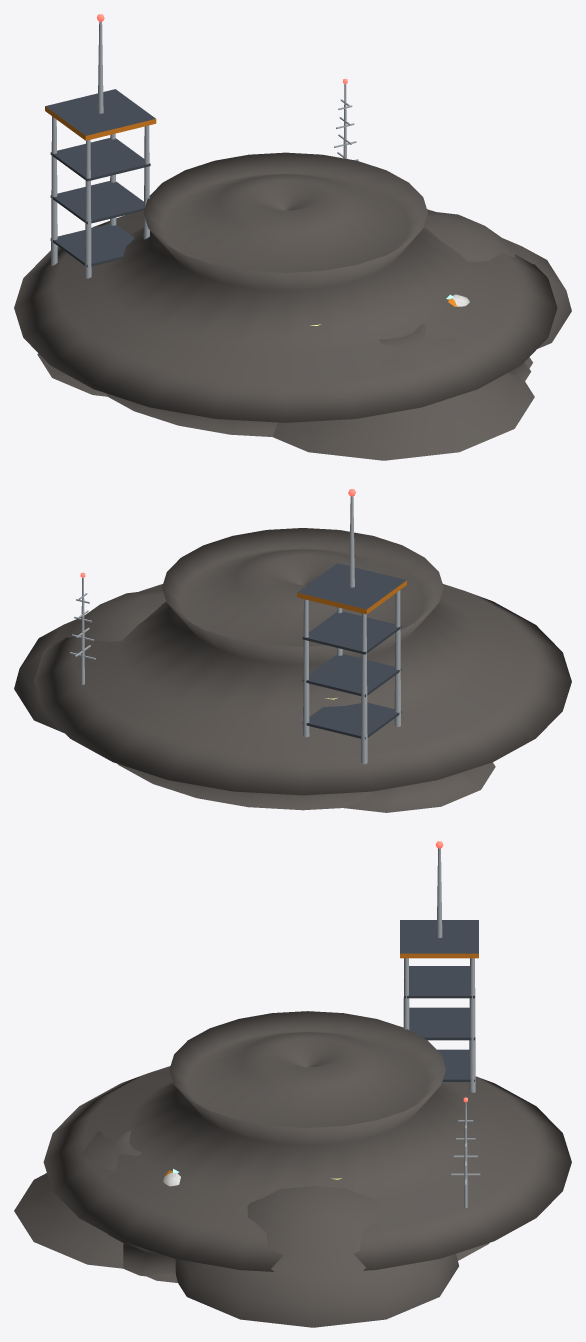
The model's file is asteroid_mining_village.glb.
The picture shows the model from 3 angles, top to bottom: view 1: azimuth 30°, elevation 25°; view 2: azimuth 150°, elevation 25°; view 3: azimuth 270°, elevation 25°; orthographic projection. The views are drawn at different scales.
Parts seen in each view (by area): view 1: asteroid_mining_village_LOD0; view 2: asteroid_mining_village_LOD0; view 3: asteroid_mining_village_LOD0.
Boxes of the visible parts, <box> form: asteroid_mining_village_LOD0: <box>14,14,571,460</box>; asteroid_mining_village_LOD0: <box>14,489,571,812</box>; asteroid_mining_village_LOD0: <box>14,841,571,1327</box>.
Size of what is drawn, in the model's own units: 42.97 by 25.4 by 42.36.
3 materials, 3 textured.
